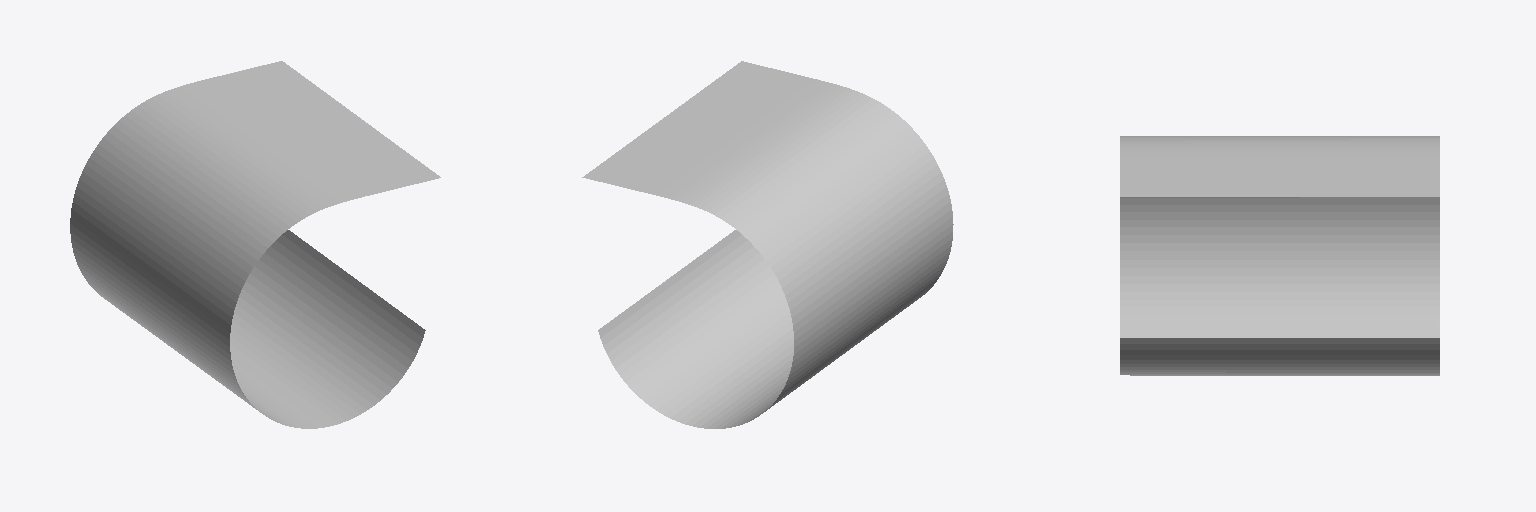
The model's file is CurvePaper_000025.obj.
3 views of the same model, side by side, from view 1: azimuth 30°, elevation 25°; view 2: azimuth 150°, elevation 25°; view 3: azimuth 270°, elevation 25° (orthographic).
Parts seen in each view (by area): view 1: Plane; view 2: Plane; view 3: Plane.
Part boxes in pixels (bbox=[...]): Plane: bbox=[70, 61, 440, 428]; Plane: bbox=[582, 61, 953, 428]; Plane: bbox=[1120, 136, 1439, 375].
Size of the model in its own units: 1.73 by 1.74 by 2.26.